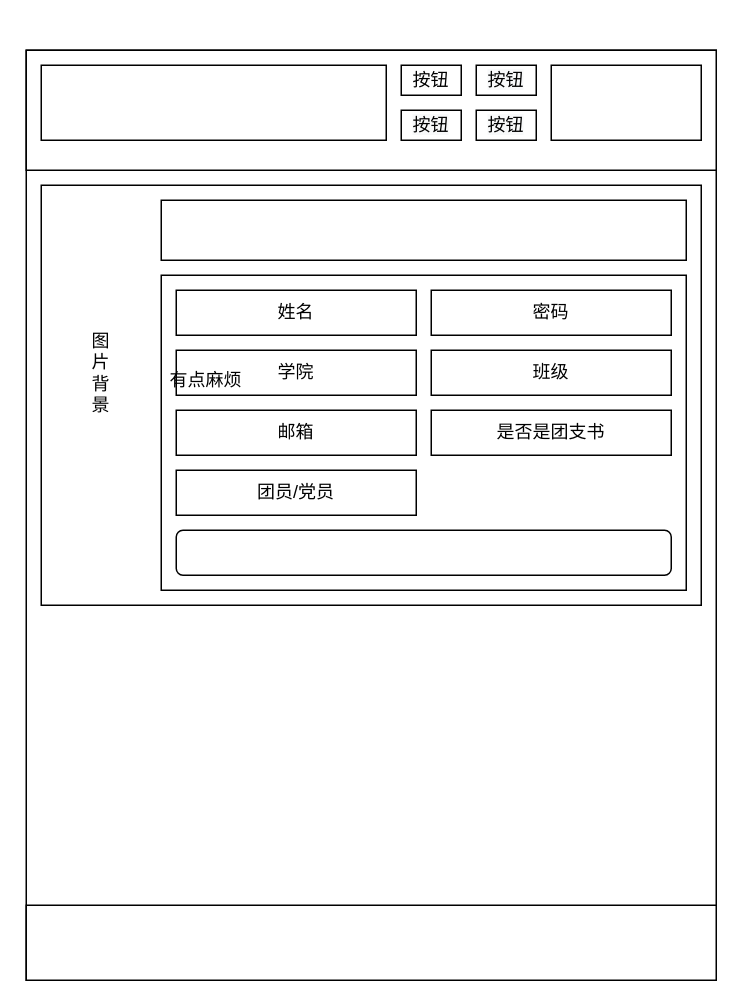
Image size: 743x1007. Some labels were removed from this diagram. The centre of each missing label's shape, as x and y in pixels:
"学生注册" belongs at [423,229].
"底部导航栏&联系发邮件" belongs at [370,942].
"当前登录学生信息显示（跳转主页）" belongs at [625,102].
"注册" belongs at [423,552].
"网站标题（文字+图片）" belongs at [213,102].
